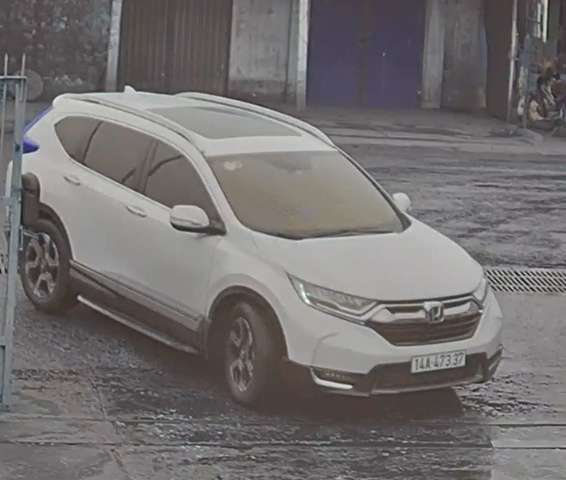vehicle plate: (411, 351, 473, 373)
